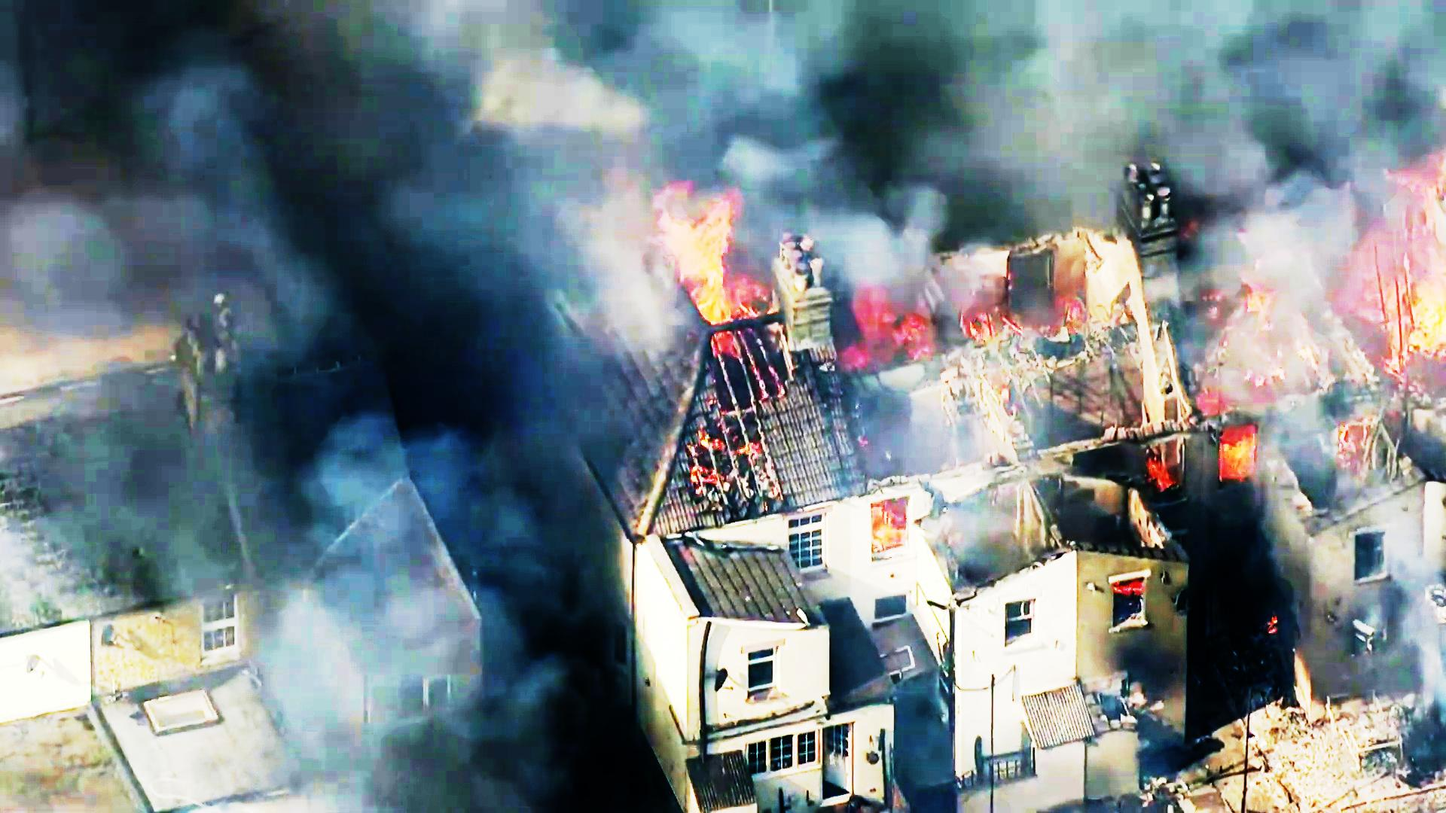fire: (644, 177, 751, 332), (1367, 175, 1446, 374)
smoke: (0, 0, 496, 313), (1111, 0, 1446, 183)
